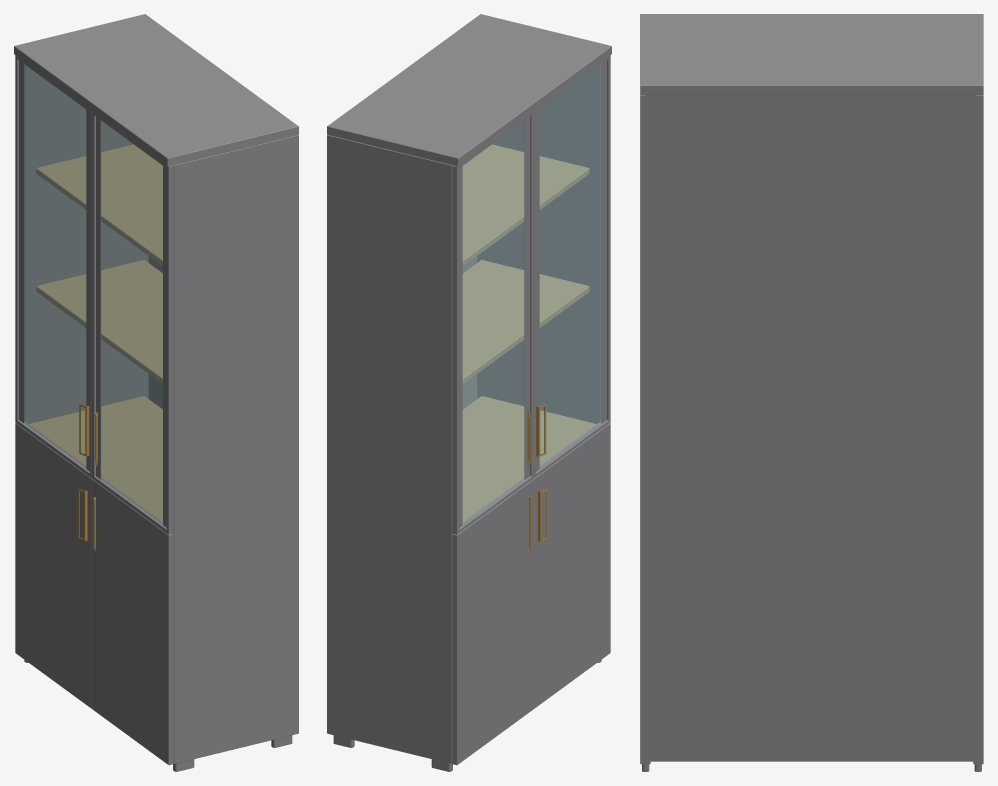
File: Locker1.FBX
3 renders of one model, left to right at view 1: azimuth 30°, elevation 25°; view 2: azimuth 150°, elevation 25°; view 3: azimuth 270°, elevation 25°, orthographic. The views are drawn at different scales.
Visible parts, largest first — view 1: Stenka 03.Stenka 04, Steklo_12, Krishka ve, Steklo_11, Stenka 03, Dverka 07, Dverka 07.Dverka 08, Polka 07, Polka 05.Polka 06, Polka 05, Dverka 05.Dverka 06, Dverka 05 (+5 smaller); view 2: Stenka 03, Steklo_11, Krishka ve, Steklo_12, Stenka 03.Stenka 04, Dverka 07.Dverka 08, Dverka 07, Polka 07, Polka 05.Polka 06, Polka 05, Dverka 05, Dverka 05.Dverka 06 (+5 smaller); view 3: Stenka zad, Krishka ve, Stenka 03, Stenka 03.Stenka 04.
Part boxes in pixels (<box>): Stenka 03.Stenka 04: <box>173,135,298,763</box>; Steklo_12: <box>101,121,162,524</box>; Krishka ve: <box>14,14,298,166</box>; Steklo_11: <box>24,64,85,468</box>; Stenka 03: <box>24,64,148,423</box>; Dverka 07: <box>92,479,173,765</box>; Dverka 07.Dverka 08: <box>15,423,92,708</box>; Polka 07: <box>29,396,162,521</box>; Polka 05.Polka 06: <box>36,260,162,383</box>; Polka 05: <box>36,144,162,265</box>; Dverka 05.Dverka 06: <box>92,111,173,534</box>; Dverka 05: <box>15,55,91,478</box>; Stenka 03: <box>327,135,452,763</box>; Steklo_11: <box>463,121,524,524</box>; Krishka ve: <box>327,14,611,166</box>; Steklo_12: <box>540,64,601,468</box>; Stenka 03.Stenka 04: <box>477,65,601,423</box>; Dverka 07.Dverka 08: <box>452,479,533,765</box>; Dverka 07: <box>533,423,610,708</box>; Polka 07: <box>462,396,596,521</box>; Polka 05.Polka 06: <box>462,260,589,383</box>; Polka 05: <box>462,144,589,265</box>; Dverka 05: <box>452,112,533,534</box>; Dverka 05.Dverka 06: <box>533,55,610,478</box>; Stenka zad: <box>645,95,976,761</box>; Krishka ve: <box>640,14,983,94</box>; Stenka 03: <box>973,95,983,764</box>; Stenka 03.Stenka 04: <box>640,95,650,764</box>.
Size of the model in its own units: 4.7 by 20.42 by 9.22.
